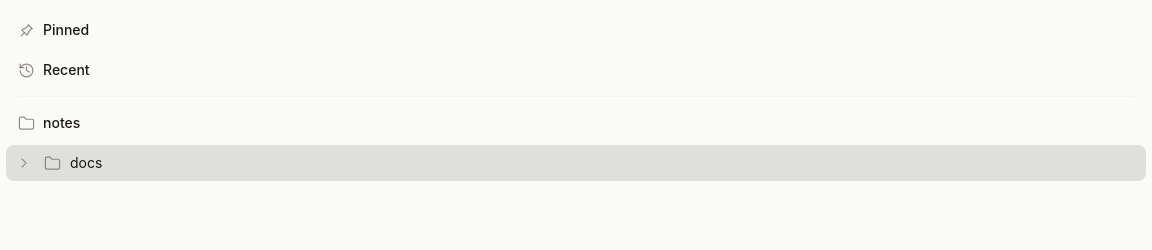
Test: FolderTreeView › does not briefly expand a collapsed folder while renaming it
Expected: the text "docs" is shown, [70,154,102,171]
Expected: the button named "Expand folder" is shown, [14,153,34,173]
Right-click the text "docs".
right_click(576, 163)  # box [6,145,1146,181]
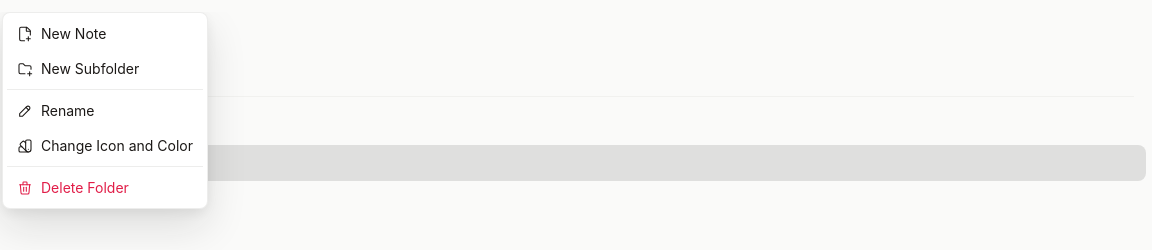
Click the menu item "Rename".
click(56, 110)  # box [17,102,94,119]
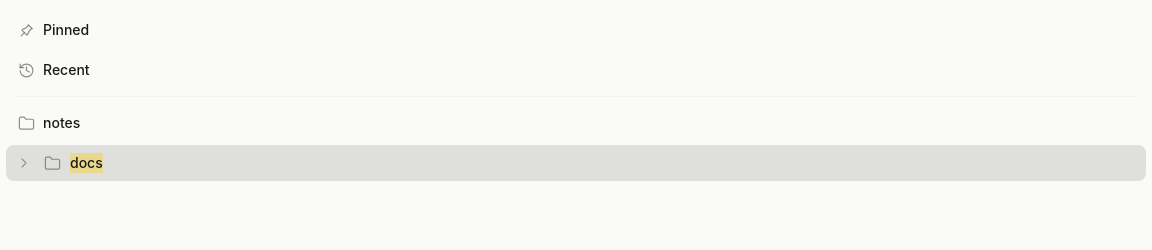
Replace the text in the field showing "docs" with "archive" at (602, 163), box [70,153,1134,173]
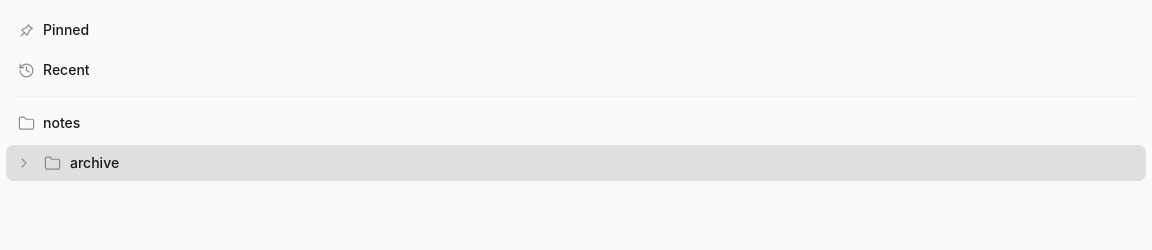
Press Enter in the field showing "docs", box [70,153,1134,173]
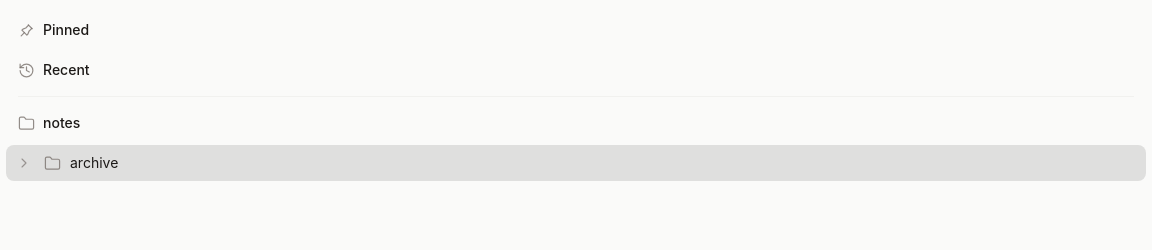
Result: the text "archive" is shown at [70,154,118,171]
